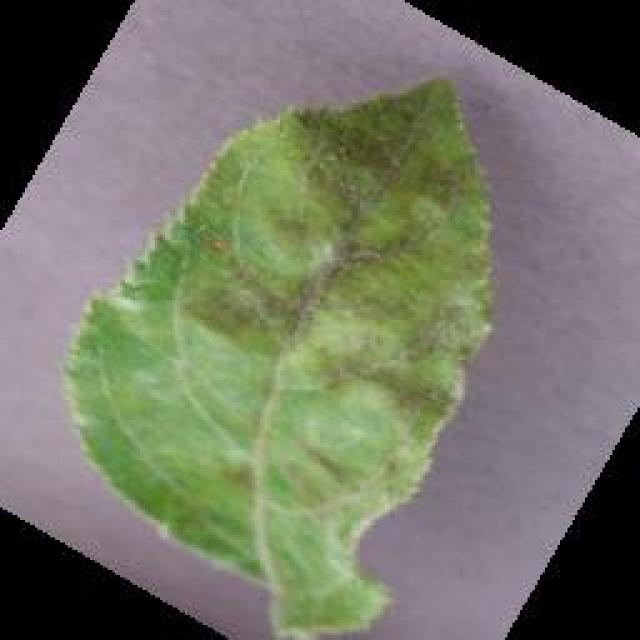apple scab disease: (60, 72, 498, 638)
